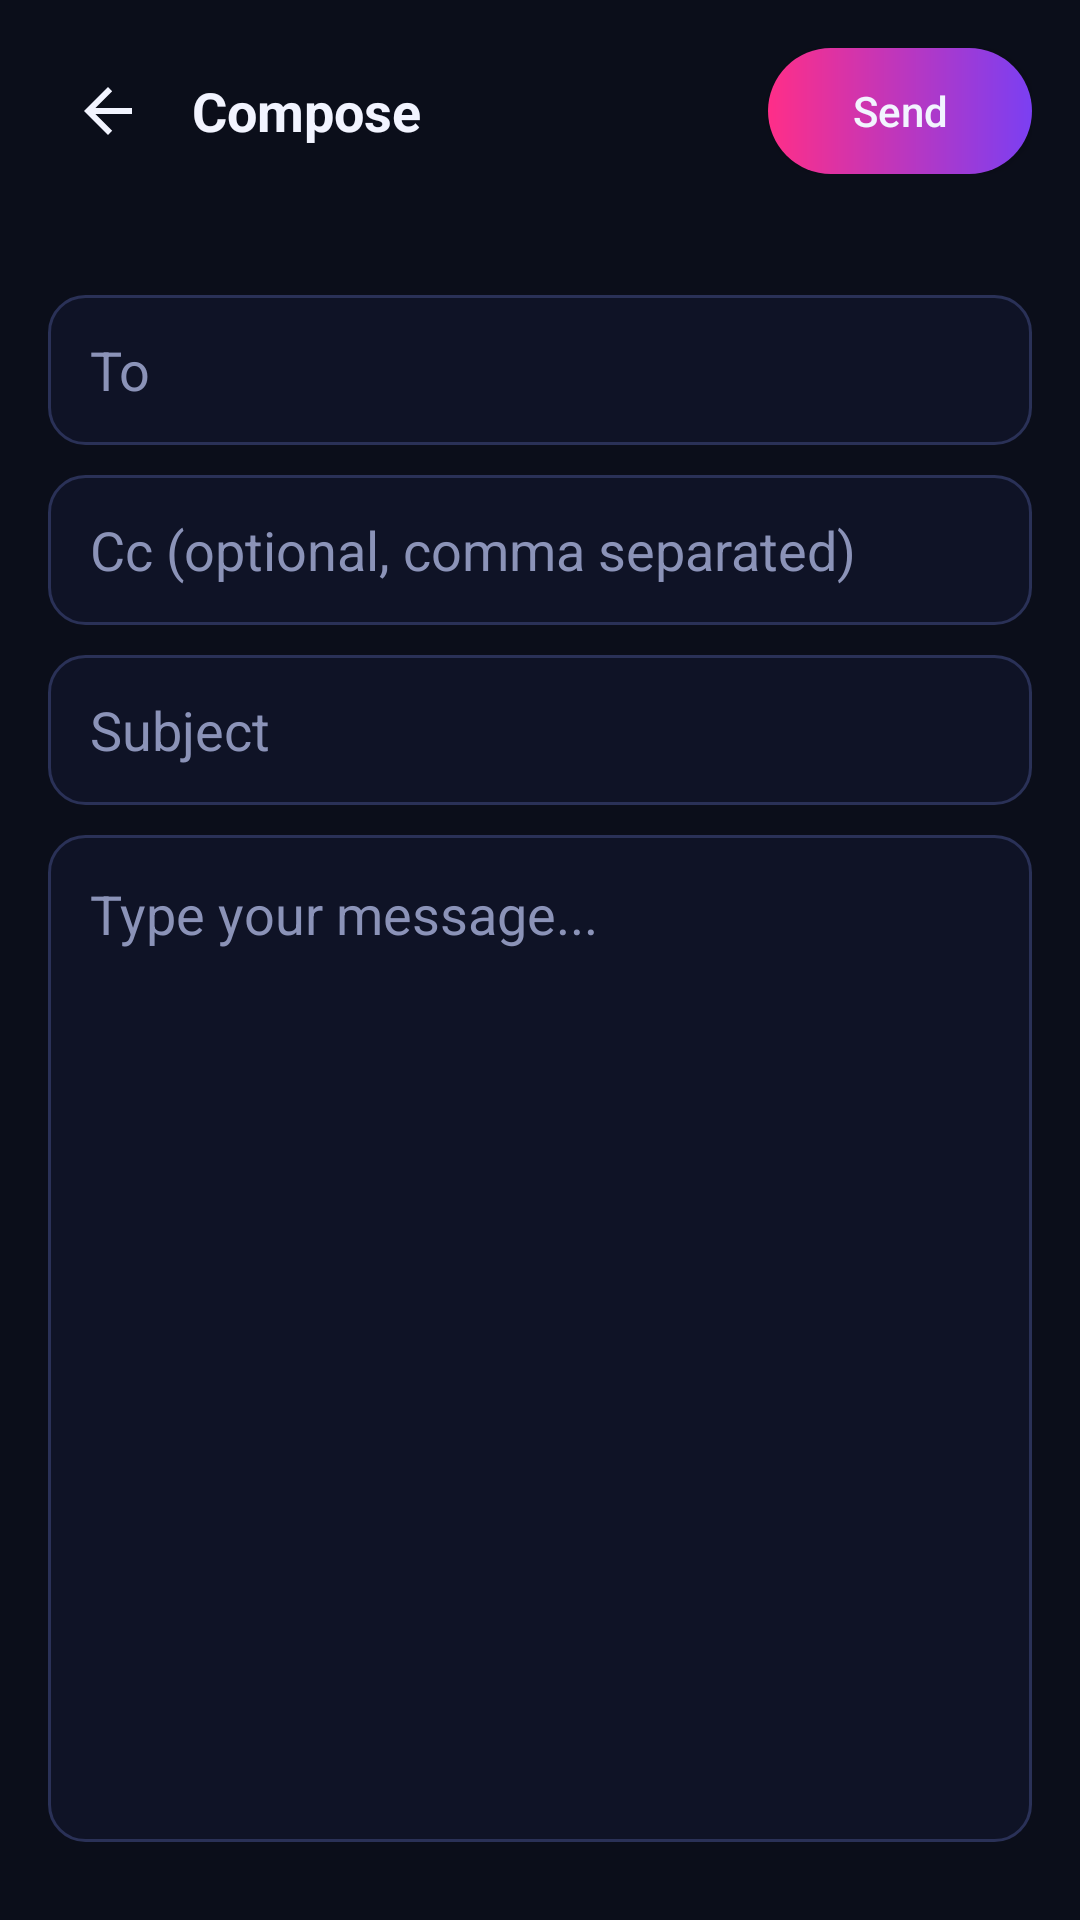

Named icons in this screenshot (1080 × 1920) and their bounding boxes, (x1, y1, x2, y2):
Back: (84, 87, 132, 135)
